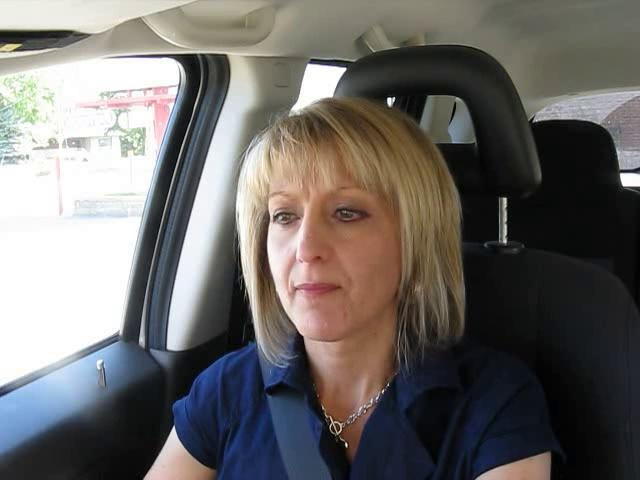no_yawn: (282, 271, 352, 310)
open_eyeL: (265, 204, 308, 236)
open_eyeR: (319, 194, 384, 235)
